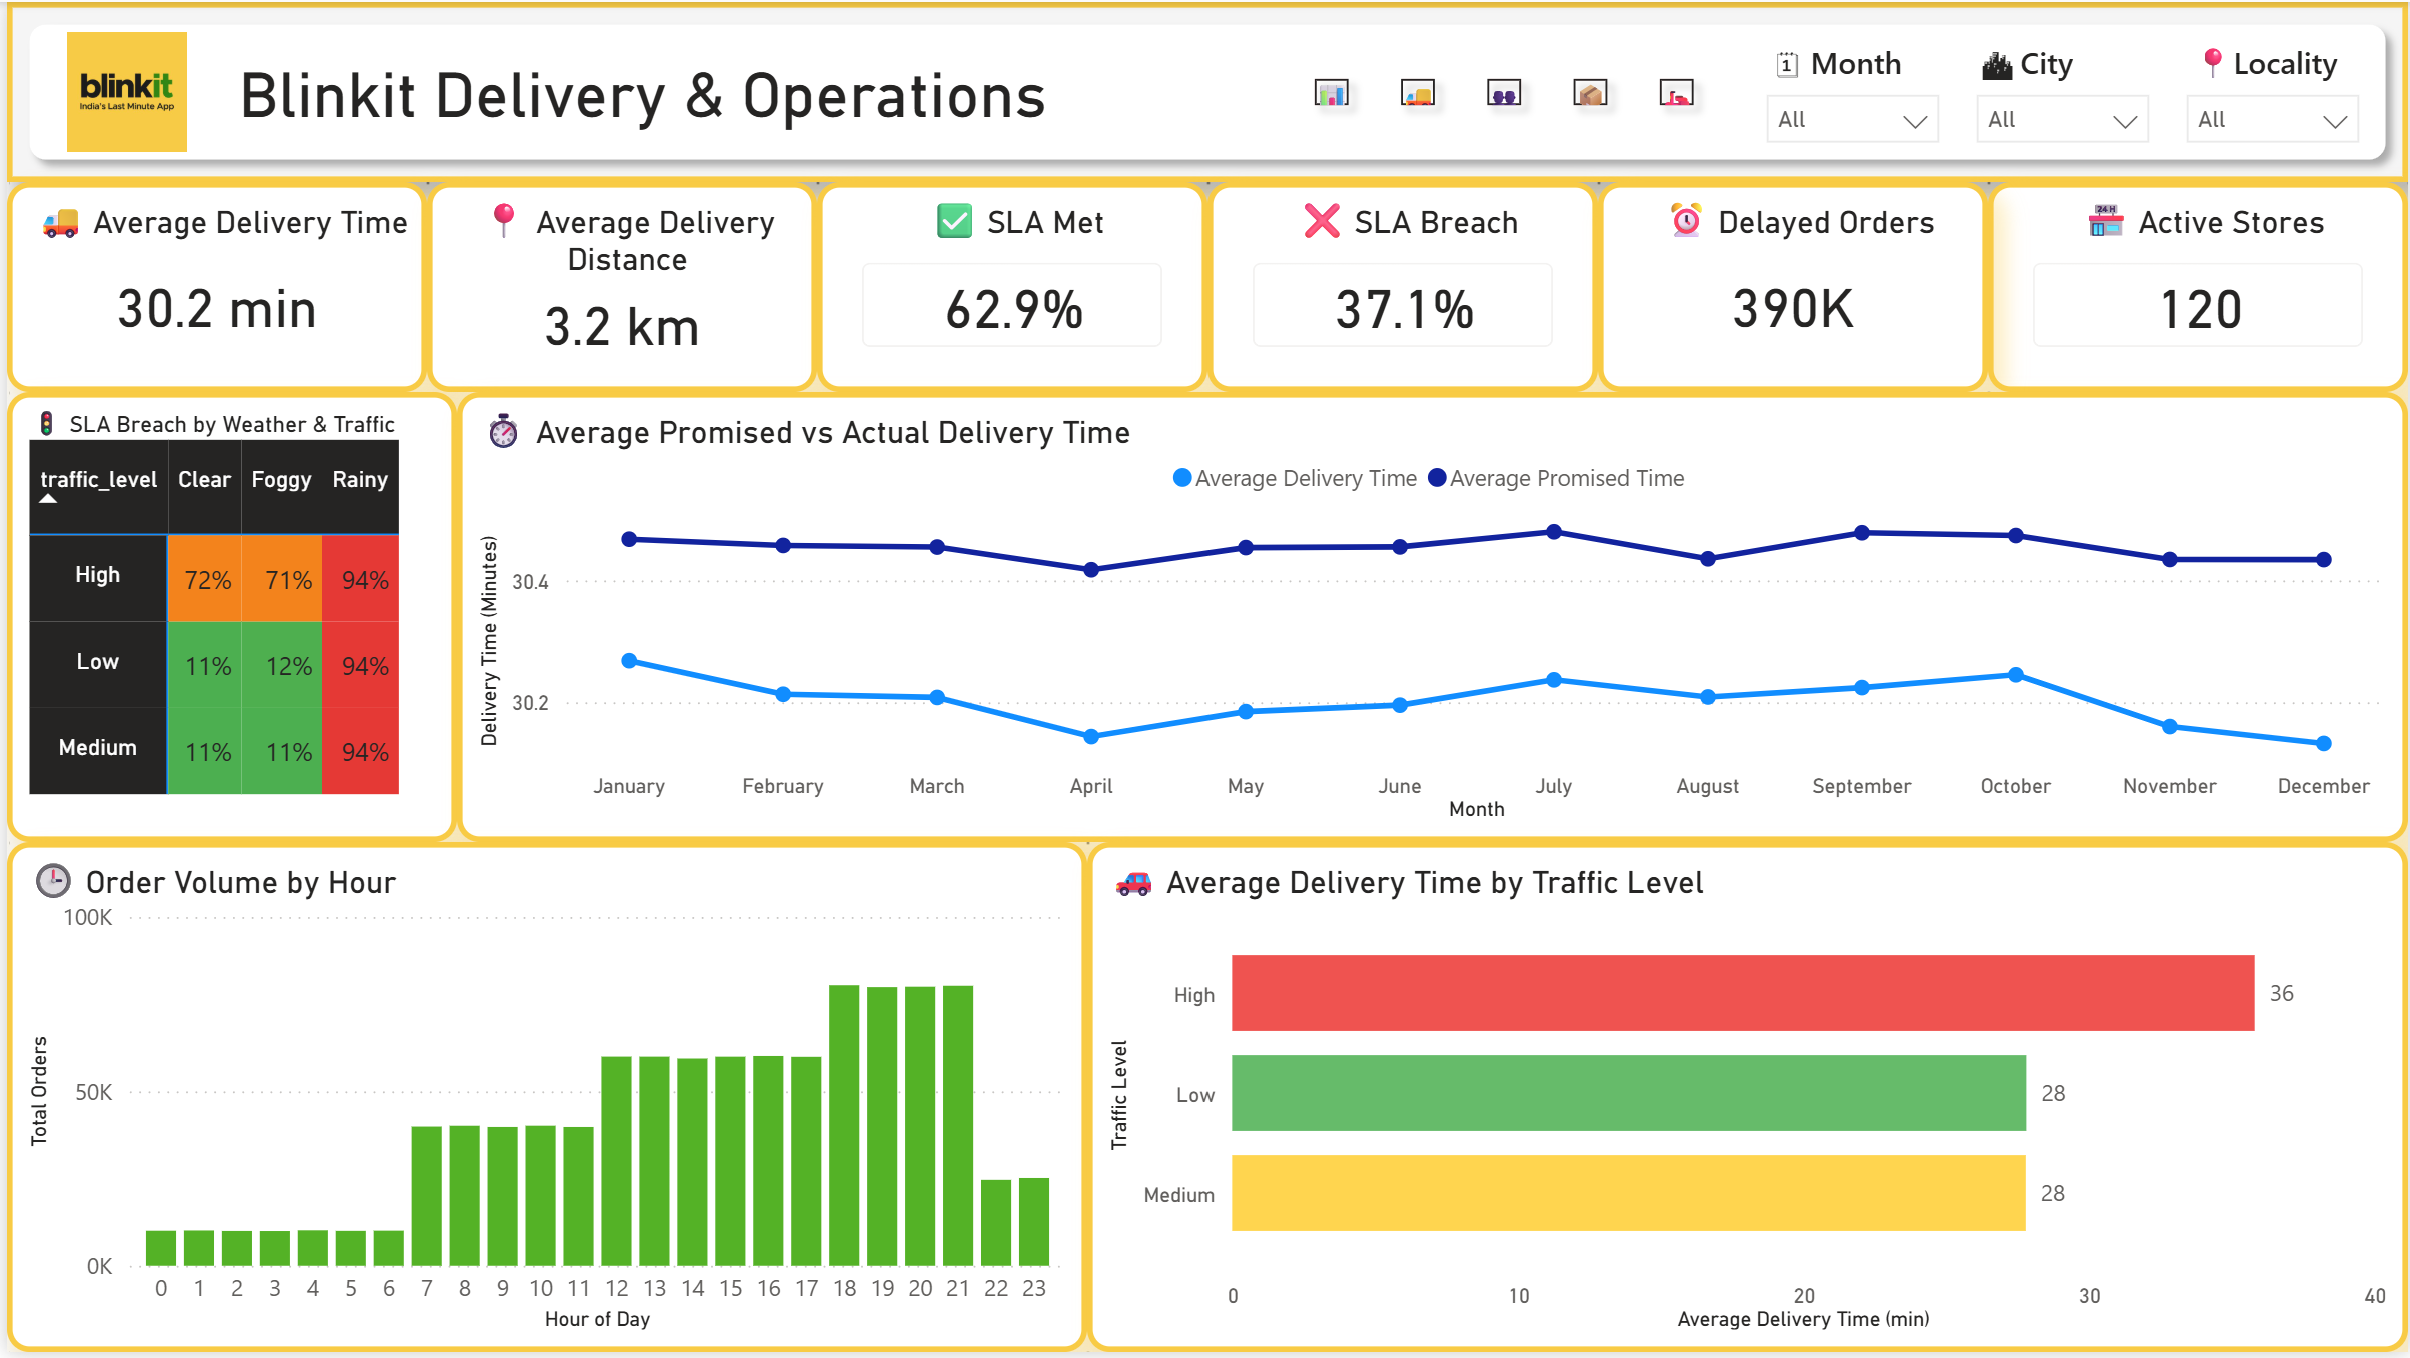

This screenshot's page, from the dashboard's own definition file:
{"tool":"powerbi","page":{"name":"🚚 Operations","canvas":[1280,720],"ordinal":1},"visuals":[{"type":"shape","box":[0,0,1280,96],"z":0},{"type":"textbox","box":[16,16,640,64],"z":1000},{"type":"slicer","fields":{"Values":["Customers.city"]},"box":[1040,16,112,64],"z":2000},{"type":"slicer","fields":{"Values":["Store.locality"]},"box":[1152,16,112,64],"z":3000},{"type":"slicer","fields":{"Values":["Calender.date.Variation.Date Hierarchy.Month"]},"box":[928,16,112,64],"z":4000},{"type":"image","box":[0,16,128,64],"z":5000},{"type":"card","title":"🚚 Average Delivery Time","fields":{"Values":["Key_Metrices.Average Delivery Time"]},"box":[0,96,224,112],"z":6000},{"type":"card","title":"📍 Average Delivery Distance","fields":{"Values":["Key_Metrices.Average Delivery Distance"]},"box":[224,96,208,112],"z":7000},{"type":"cardVisual","title":"✅ SLA Met","fields":{"Data":["Key_Metrices.SLA Met %"]},"box":[432,96,208,112],"z":8000},{"type":"cardVisual","title":"🏪 Active Stores","fields":{"Data":["Key_Metrices.Active Stores"]},"box":[1056,96,224,112],"z":9000},{"type":"cardVisual","title":"❌ SLA Breach","fields":{"Data":["Key_Metrices.SLA Breach %"]},"box":[640,96,208,112],"z":10000},{"type":"card","title":"⏰ Delayed Orders","fields":{"Values":["Key_Metrices.Delayed Orders"]},"box":[848,96,208,112],"z":11000},{"type":"pivotTable","title":"🚦 SLA Breach by Weather & Traffic","fields":{"Rows":["Orders.traffic_level"],"Columns":["Orders.weather"],"Values":["Key_Metrices.SLA Breach %"]},"box":[0,208,240,240],"z":12000},{"type":"lineChart","title":"⏱️ Average Promised vs Actual Delivery Time","fields":{"Category":["Calender.date.Variation.Date Hierarchy.Month"],"Y":["Key_Metrices.Average Delivery Time","Key_Metrices.Average Promised Time"]},"box":[240,208,1040,240],"z":13000},{"type":"clusteredColumnChart","title":"🕒 Order Volume by Hour","fields":{"Category":["Orders.order_hour"],"Y":["Key_Metrices.Total Orders"]},"box":[0,448,576,272],"z":14000},{"type":"clusteredBarChart","title":"🚗 Average Delivery Time by Traffic Level","fields":{"Category":["Orders.traffic_level"],"Y":["Key_Metrices.Average Delivery Time"]},"box":[576,448,704,272],"z":15000},{"type":"pageNavigator","box":[688,32,224,32],"z":16000}]}

Visuals, with their boxes in screenshot pixels (x1, y1, x2, y2), scaled from the page's 1280x720 canvas onto the 2410x1358 screenshot:
shape: (x1=0, y1=0, x2=2409, y2=181)
textbox: (x1=30, y1=30, x2=1235, y2=151)
slicer - Customers.city: (x1=1958, y1=30, x2=2169, y2=151)
slicer - Store.locality: (x1=2169, y1=30, x2=2380, y2=151)
slicer - Calender.date.Variation.Date Hierarchy.Month: (x1=1747, y1=30, x2=1958, y2=151)
image: (x1=0, y1=30, x2=241, y2=151)
"🚚 Average Delivery Time" card: (x1=0, y1=181, x2=422, y2=392)
"📍 Average Delivery Distance" card: (x1=422, y1=181, x2=813, y2=392)
"✅ SLA Met" cardVisual: (x1=813, y1=181, x2=1205, y2=392)
"🏪 Active Stores" cardVisual: (x1=1988, y1=181, x2=2409, y2=392)
"❌ SLA Breach" cardVisual: (x1=1205, y1=181, x2=1597, y2=392)
"⏰ Delayed Orders" card: (x1=1597, y1=181, x2=1988, y2=392)
"🚦 SLA Breach by Weather & Traffic" pivotTable: (x1=0, y1=392, x2=452, y2=845)
"⏱️ Average Promised vs Actual Delivery Time" lineChart: (x1=452, y1=392, x2=2409, y2=845)
"🕒 Order Volume by Hour" clusteredColumnChart: (x1=0, y1=845, x2=1084, y2=1357)
"🚗 Average Delivery Time by Traffic Level" clusteredBarChart: (x1=1084, y1=845, x2=2409, y2=1357)
pageNavigator: (x1=1295, y1=60, x2=1717, y2=121)
